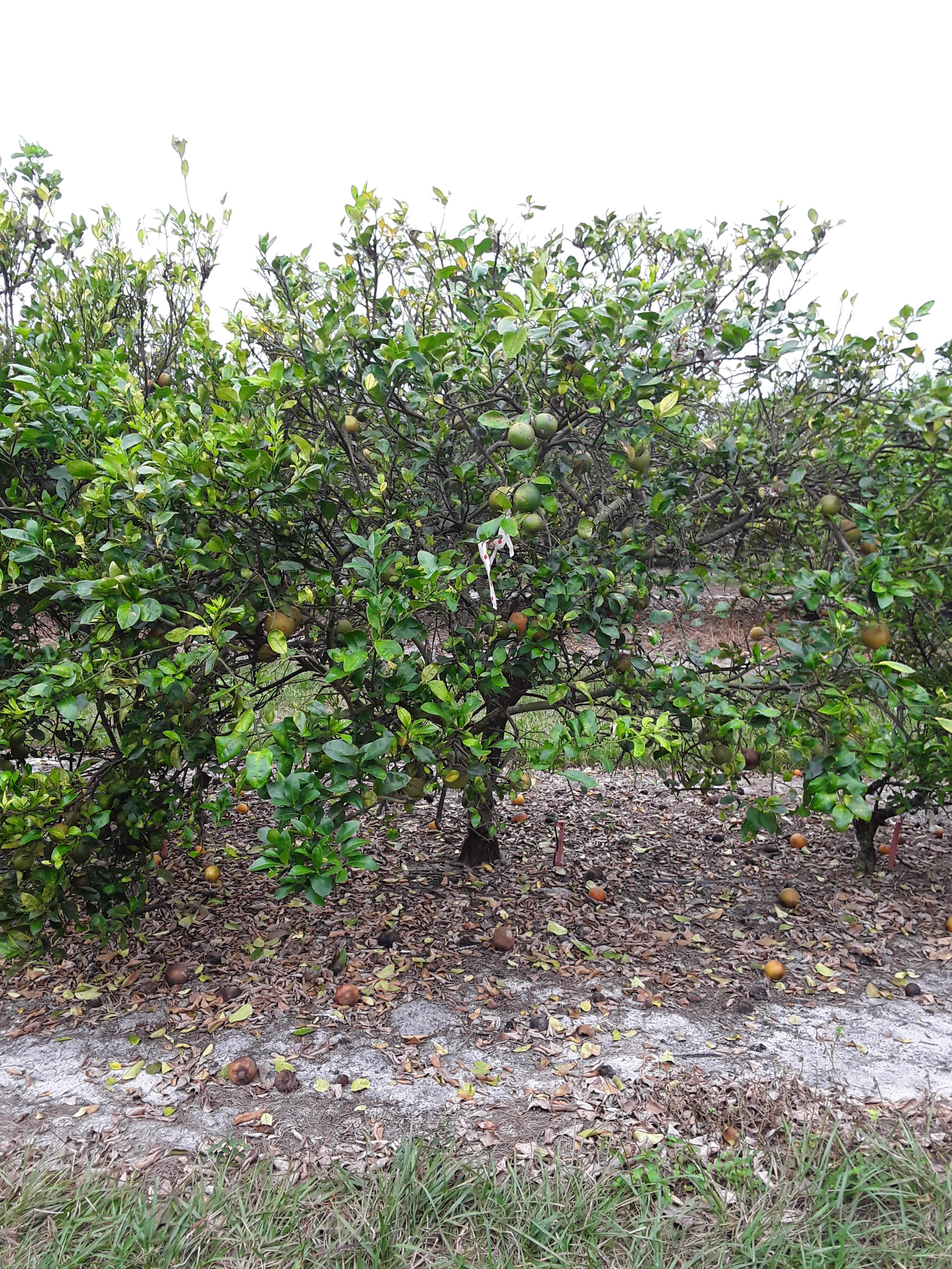fruit_on_ground: (263, 605, 300, 638), (619, 437, 653, 472), (512, 482, 544, 513), (506, 419, 537, 450), (530, 408, 561, 439), (859, 621, 891, 651), (374, 558, 406, 586), (567, 448, 596, 476), (441, 764, 471, 791), (487, 485, 514, 514), (834, 518, 862, 545), (856, 536, 887, 559), (6, 735, 32, 761), (402, 773, 428, 799), (817, 491, 843, 516), (736, 746, 763, 770), (525, 618, 551, 642), (520, 511, 546, 535), (282, 603, 305, 630), (486, 619, 513, 642), (506, 609, 530, 634), (254, 641, 280, 664), (7, 725, 31, 749), (710, 742, 734, 765), (609, 652, 634, 674), (330, 615, 355, 637), (201, 863, 222, 886), (137, 376, 159, 397), (340, 414, 361, 435), (155, 369, 175, 389), (619, 524, 638, 543), (747, 624, 765, 641), (738, 581, 754, 599)
fruit_on_tree: (225, 1054, 260, 1086), (490, 923, 517, 951), (272, 1069, 300, 1095), (333, 981, 361, 1007), (163, 961, 190, 986), (761, 957, 788, 982), (776, 885, 802, 909), (376, 929, 402, 949), (219, 982, 243, 1001), (721, 1124, 742, 1145), (587, 883, 608, 903), (527, 1014, 548, 1033), (788, 830, 808, 849), (584, 865, 605, 882), (903, 982, 920, 998), (456, 932, 474, 947), (510, 797, 527, 812), (875, 841, 893, 855), (518, 771, 533, 787), (234, 800, 250, 815), (511, 808, 528, 822), (943, 911, 952, 935), (931, 824, 945, 838), (710, 831, 725, 844), (511, 793, 526, 806), (791, 766, 805, 778), (426, 819, 439, 831)
